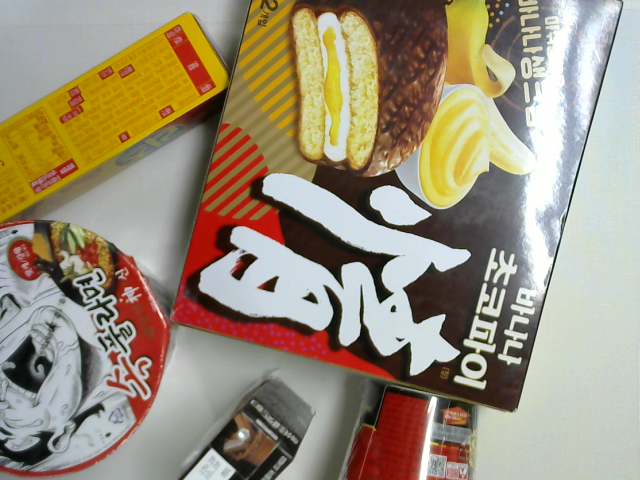Choco_Pie_Banana: (167, 1, 625, 415)
Hejangpul: (1, 216, 179, 480)
Hush_Choco_Drink: (176, 369, 319, 480)
Ritz_Sand_Cracker: (1, 8, 235, 226)
Sinramen_small: (335, 376, 479, 480)
